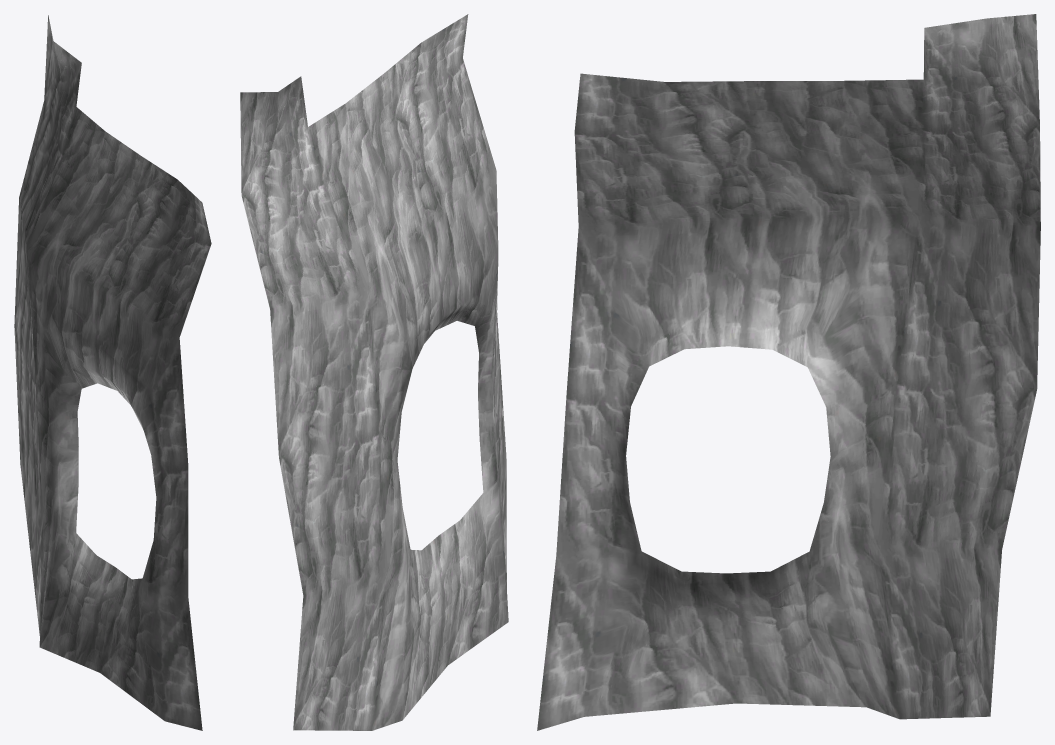
File: SWORDLIGHT20_PS-AREA03_166.fbx
The picture shows the model from 3 angles, left to right: view 1: azimuth 30°, elevation 25°; view 2: azimuth 150°, elevation 25°; view 3: azimuth 270°, elevation 25°; orthographic projection. The views are drawn at different scales.
Visible parts, largest first — view 1: SWORDLIGHT20_PS-AREA03_166; view 2: SWORDLIGHT20_PS-AREA03_166; view 3: SWORDLIGHT20_PS-AREA03_166.
Part boxes in pixels (<box>): SWORDLIGHT20_PS-AREA03_166: <box>14,15,211,730</box>; SWORDLIGHT20_PS-AREA03_166: <box>240,14,508,730</box>; SWORDLIGHT20_PS-AREA03_166: <box>537,14,1040,730</box>.
Bounding box in the file's own units: 27866 × 205756 × 126285.
Materials: 1 (1 with a texture image).
